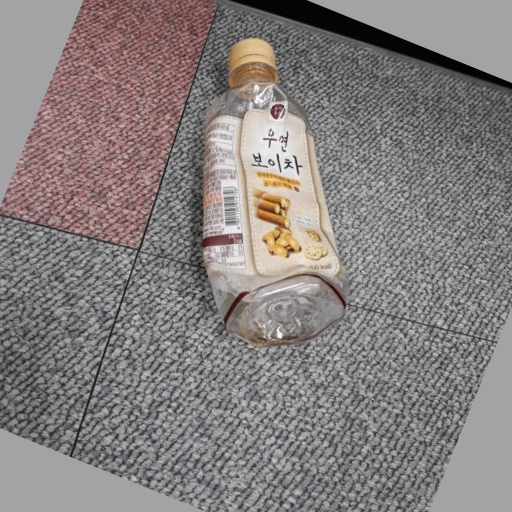Plastic_0: (197, 37, 341, 341)
